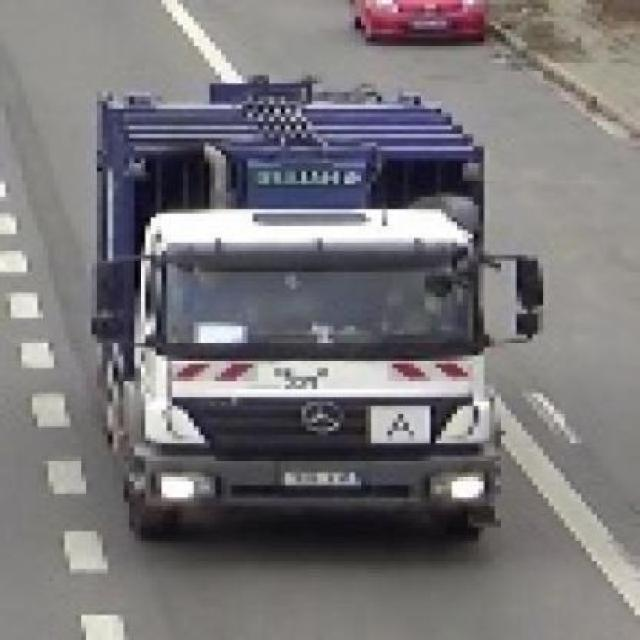truck: (89, 72, 544, 546)
